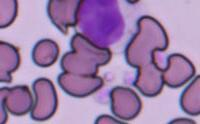L: (76, 0, 127, 49)
